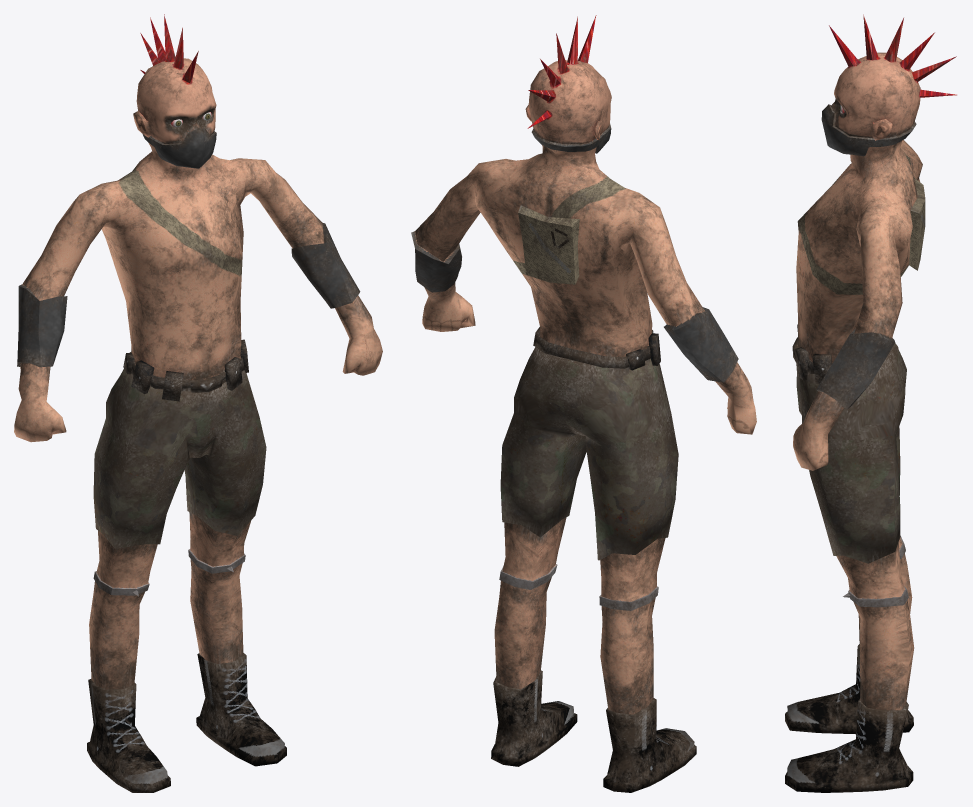
The model's file is Anim_idle_npc2.0044.obj.
3 views of the same model, side by side, from view 1: azimuth 30°, elevation 25°; view 2: azimuth 150°, elevation 25°; view 3: azimuth 270°, elevation 25° (orthographic). The views are drawn at different scales.
Parts seen in each view (by area): view 1: polySurface1; view 2: polySurface1; view 3: polySurface1.
Boxes of the visible parts, box(x1,y1,x2,y2) form: polySurface1: box(14, 14, 382, 792); polySurface1: box(411, 15, 756, 792); polySurface1: box(785, 14, 956, 792).
Size of the model in its own units: 5.09 by 10.18 by 2.16.
